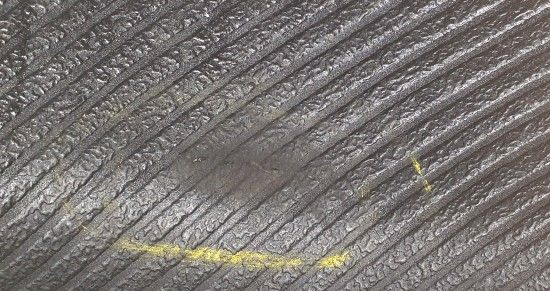CBU: (165, 145, 322, 203)
